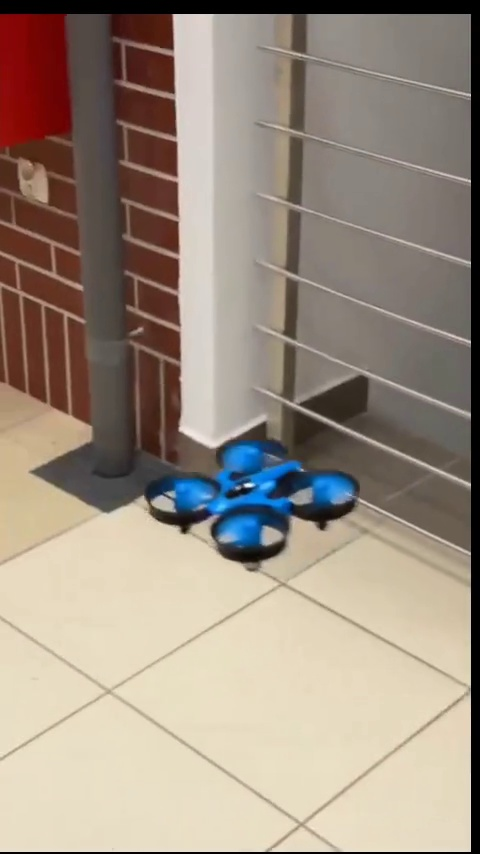drone: (141, 432, 365, 577)
